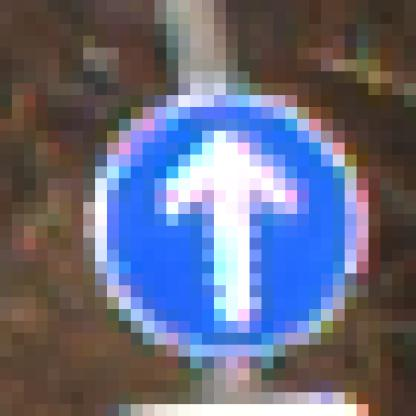AheadOnly: (72, 72, 358, 346)
